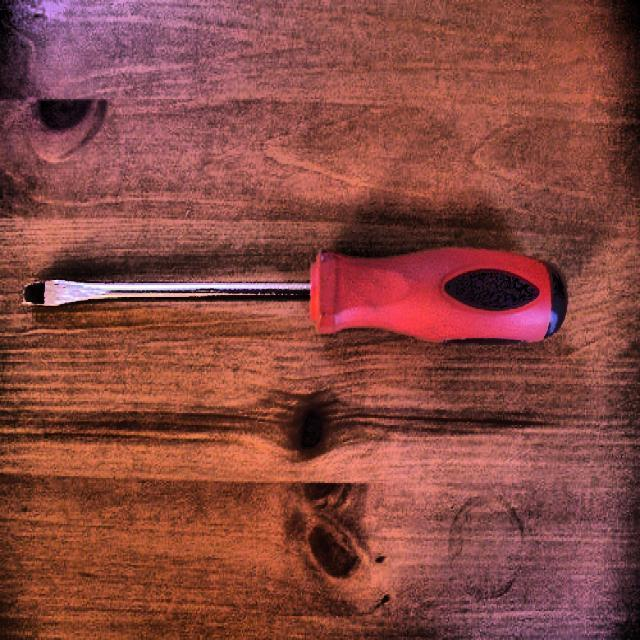screwdriver: (22, 246, 567, 346)
